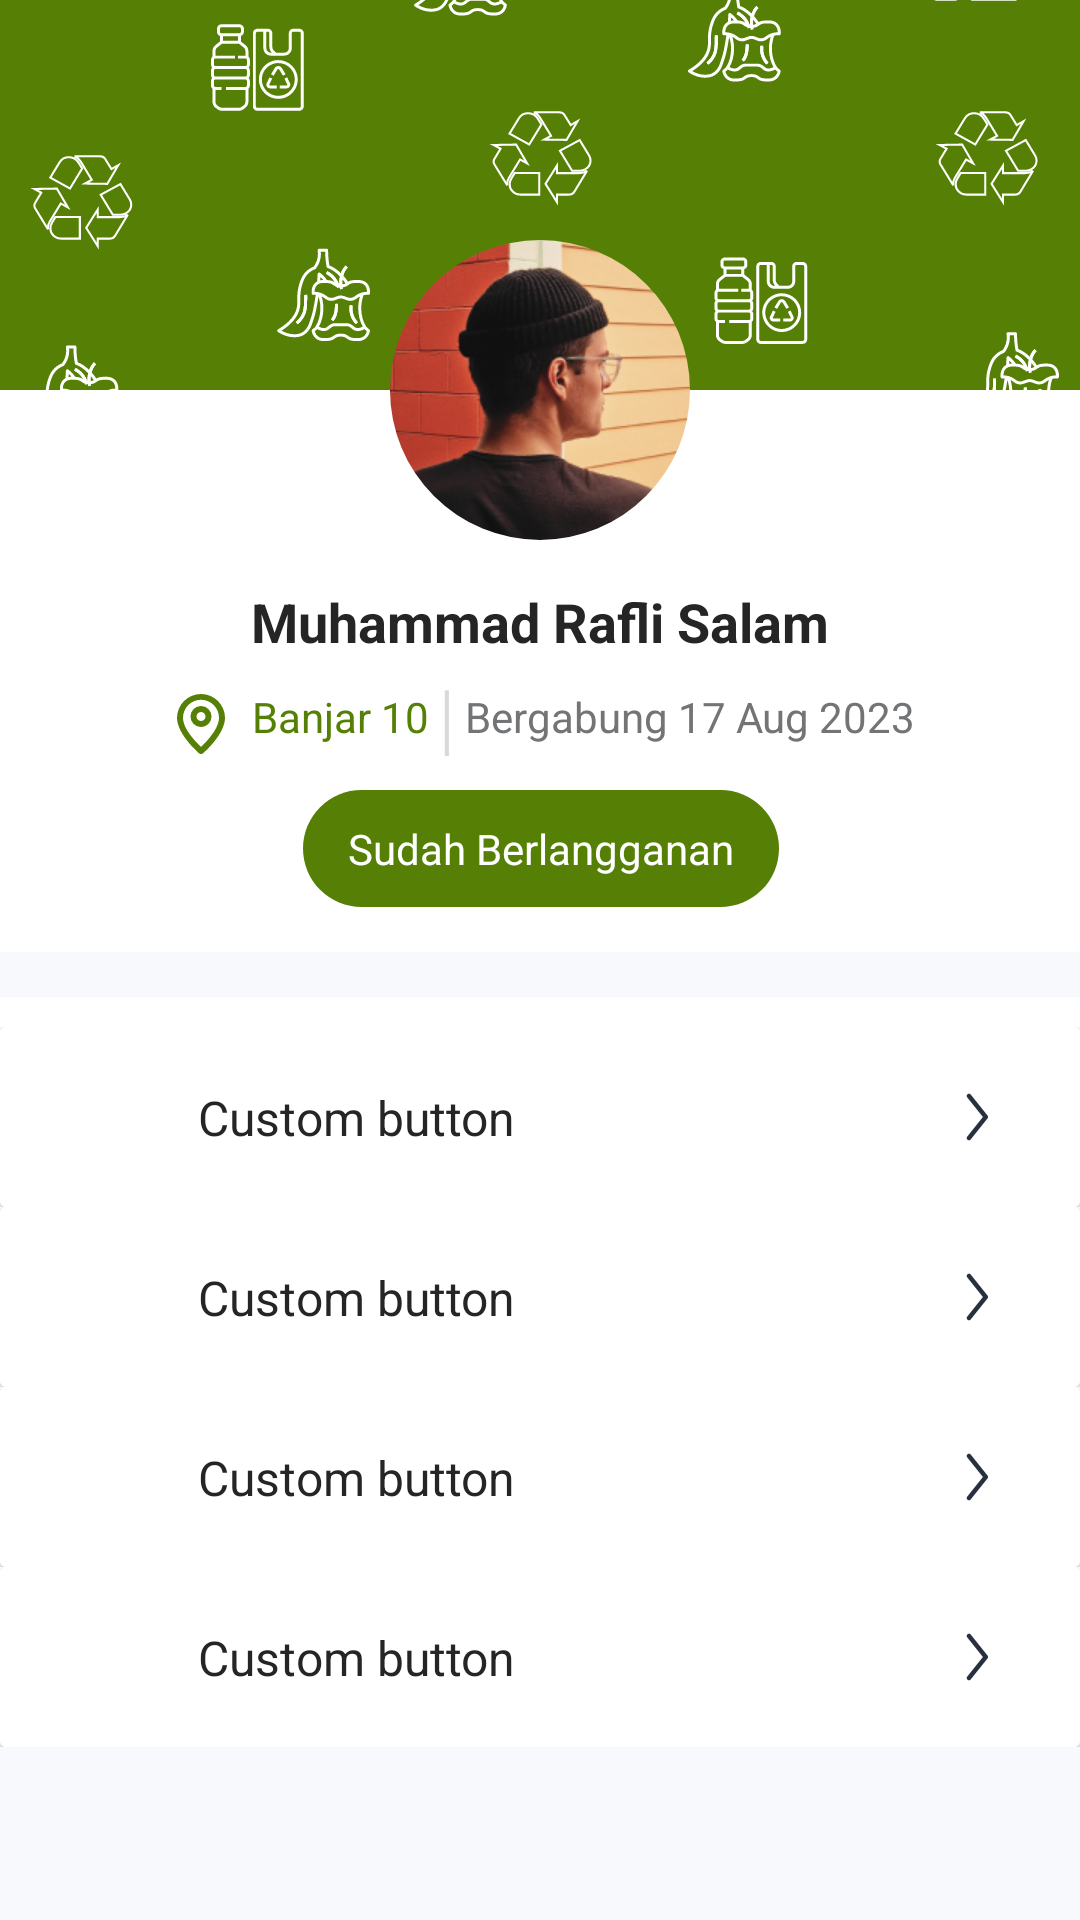

Where to tap for icons on this 1080x1920 app screen, as (x,y):
arrow forward: (977,1117), (977,1297), (977,1477), (977,1657)
